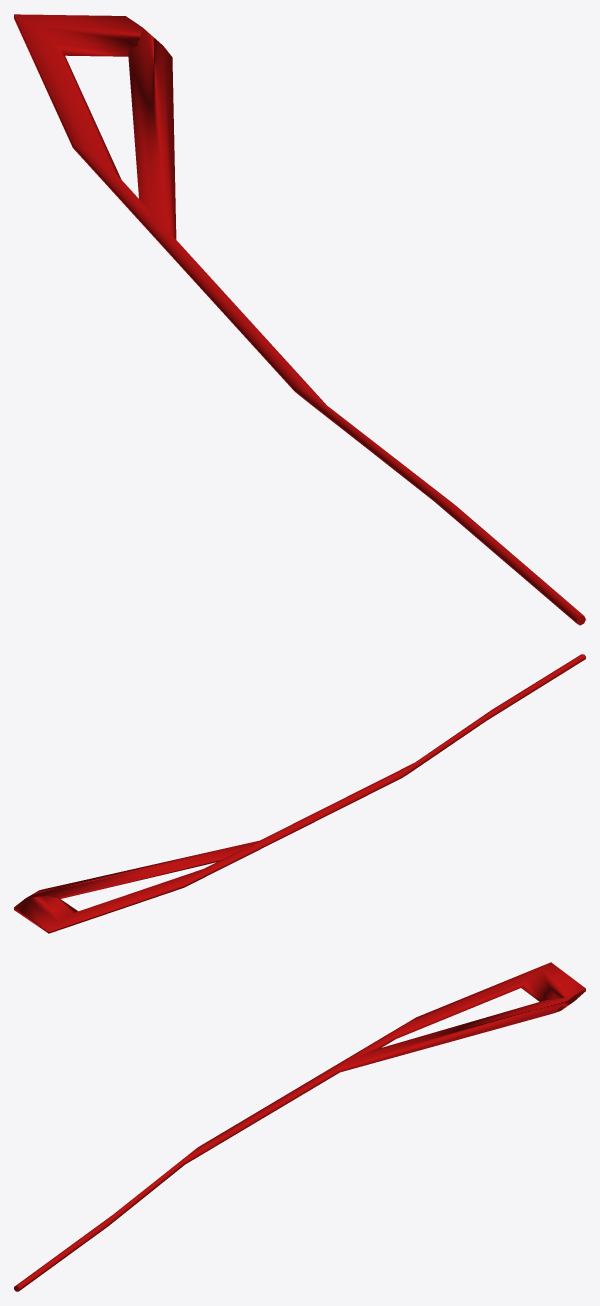
Rendered from string.FBX.
3 renders of one model, top to bottom at view 1: azimuth 30°, elevation 25°; view 2: azimuth 150°, elevation 25°; view 3: azimuth 330°, elevation 25°, orthographic. The views are drawn at different scales.
Visible parts, largest first — view 1: Cylinder002; view 2: Cylinder002; view 3: Cylinder002.
Part boxes in pixels (bbox=[...]): Cylinder002: bbox=[14, 14, 585, 625]; Cylinder002: bbox=[14, 654, 585, 933]; Cylinder002: bbox=[14, 962, 585, 1291].
Size of the model in its own units: 11.78 by 2.32 by 61.04.
